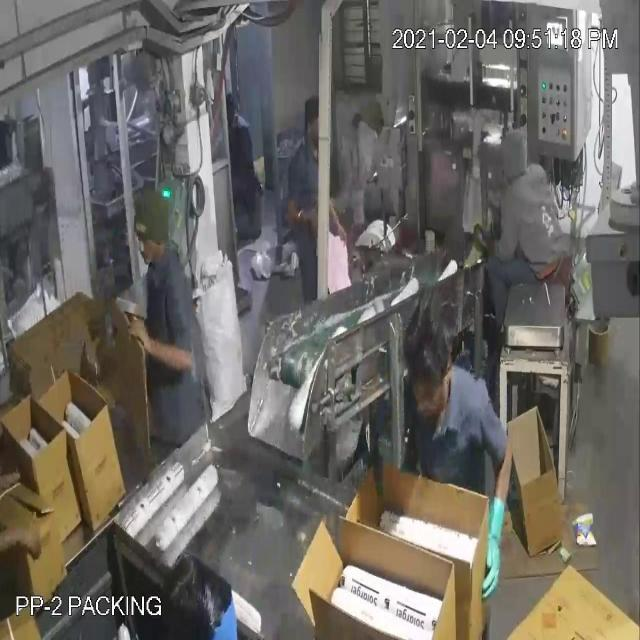No_Gloves: (24, 46, 485, 544)
